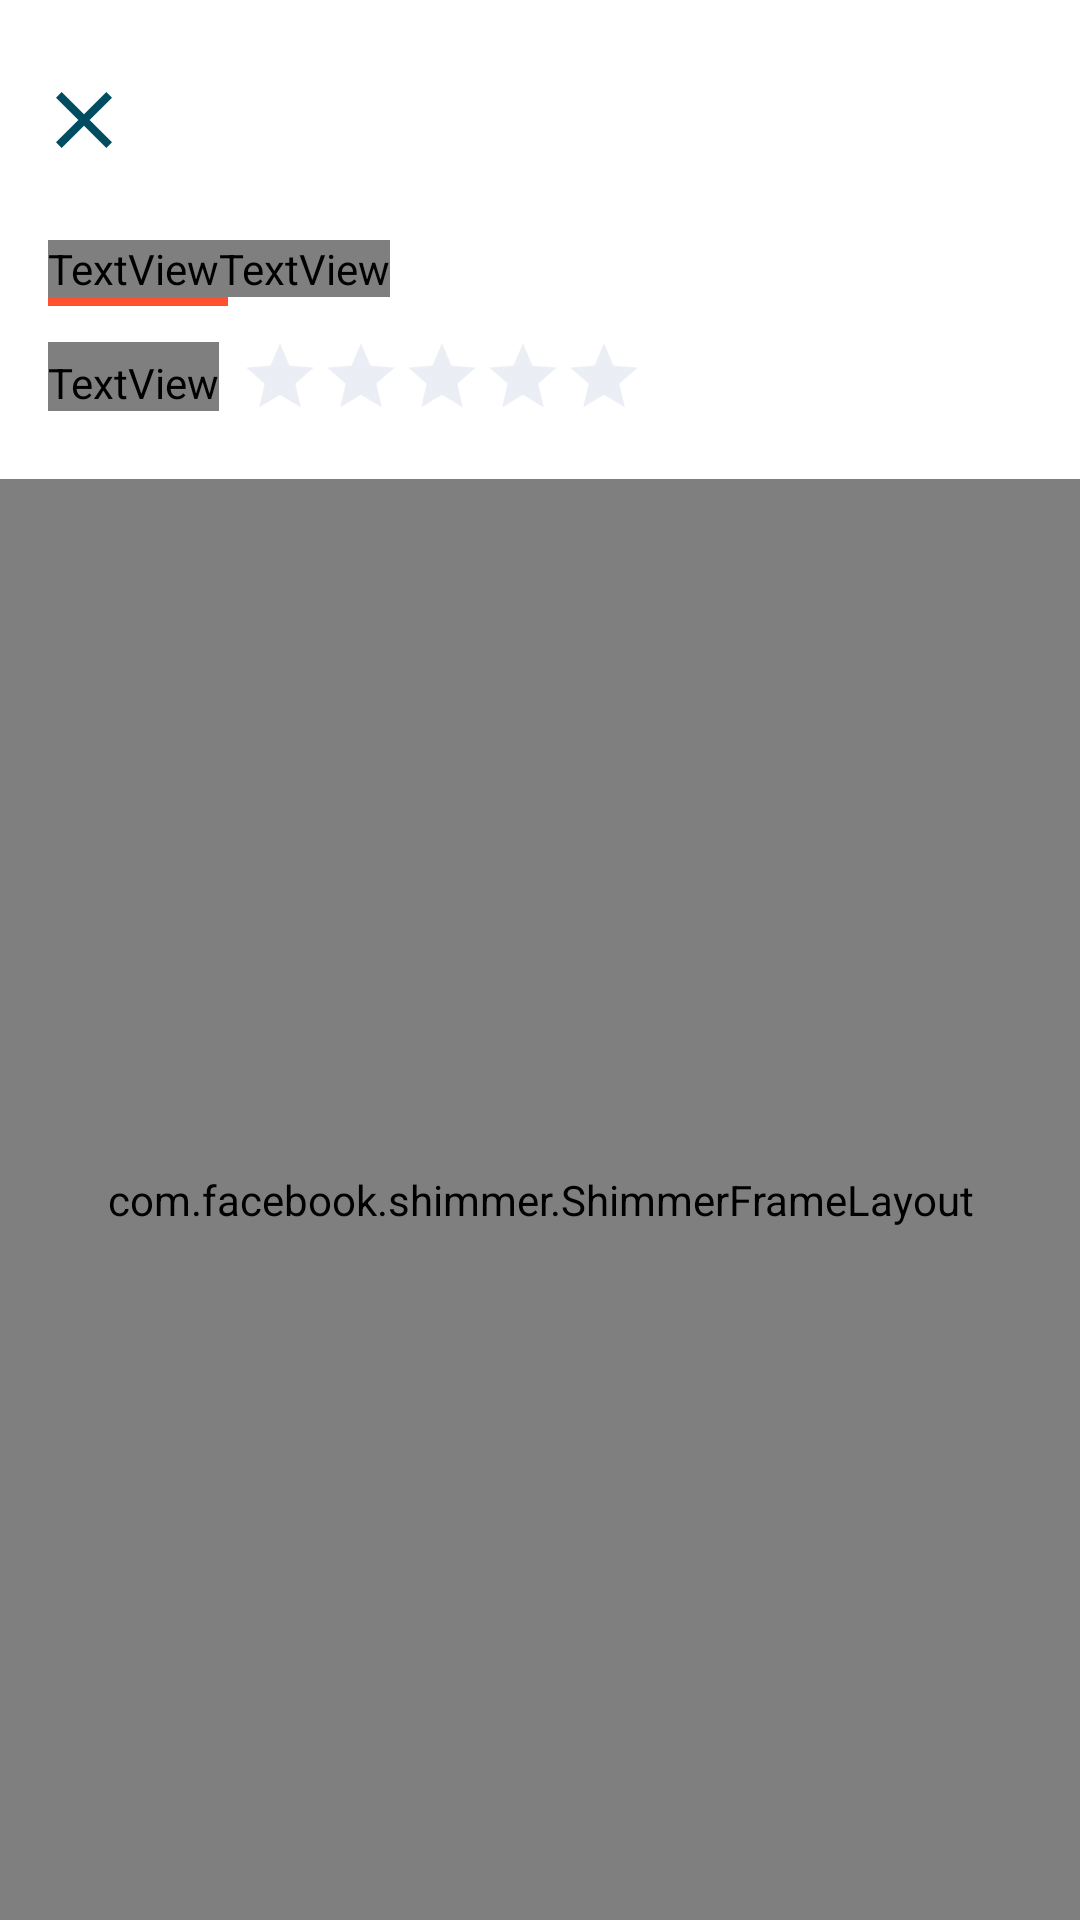

Screen size 1080×1920. Icon name, then its center in pixels as (x=x, y=y):
close: (x=84, y=120)
